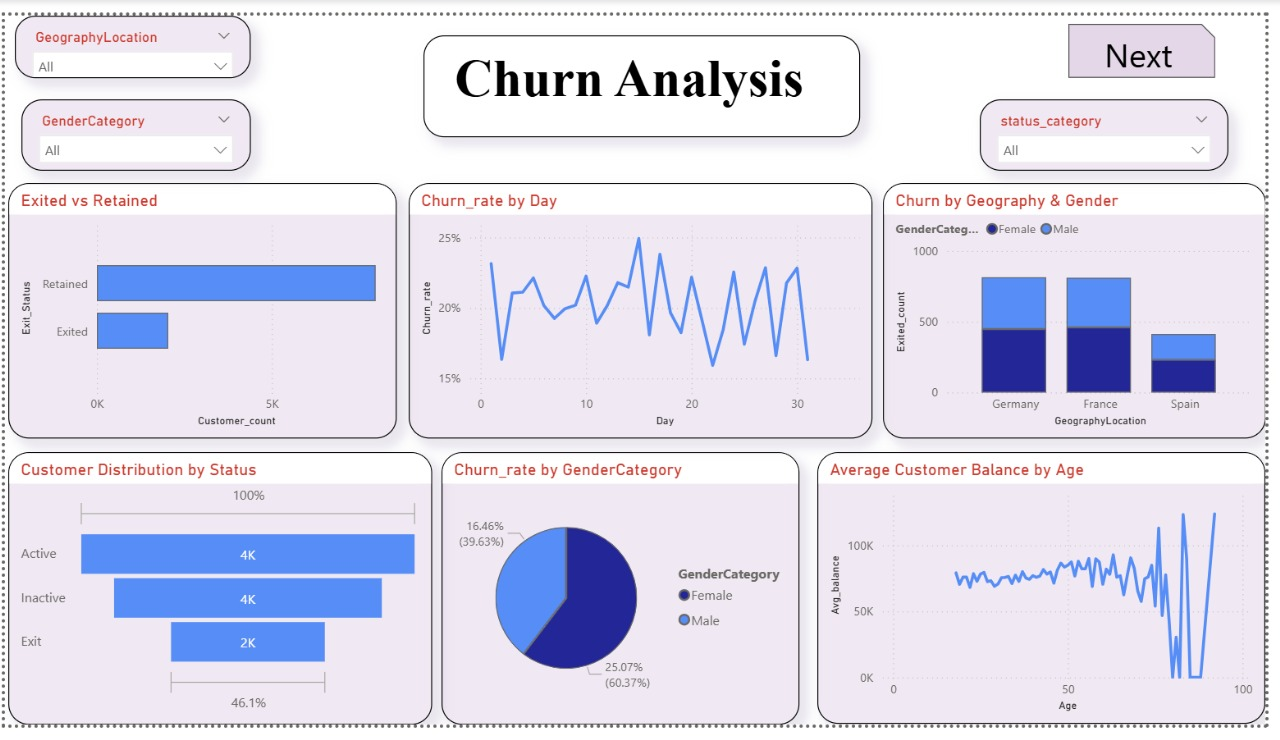

Layout of this report page (visuals, bound fields, positions):
{"tool":"powerbi","page":{"name":"Page 2","canvas":[1280,720],"ordinal":1},"visuals":[{"type":"clusteredBarChart","title":"Exited vs Retained","fields":{"Category":["Bank_Churn.Exit_Status"],"Y":["ActiveCustomer.Customer_count"]},"box":[4,169.6,394.3,259.7],"z":0},{"type":"columnChart","title":" Churn by Geography & Gender","fields":{"Category":["Geography.GeographyLocation"],"Y":["ActiveCustomer.Exited_count"],"Series":["Gender.GenderCategory"]},"box":[890.9,169.6,388.9,259.7],"z":1000},{"type":"funnel","title":"Customer Distribution by Status","fields":{"Category":["Bank_Churn.status_category"],"Y":["ActiveCustomer.Customer_count"]},"box":[4,444.1,430.6,277.2],"z":2000},{"type":"lineChart","title":"Average Customer Balance by Age","fields":{"Category":["Bank_Churn.Age"],"Y":["Bank_Churn.Avg_balance"]},"box":[825,444.1,454.9,275.9],"z":3000},{"type":"textbox","box":[425.8,20.4,443.7,103.3],"z":4000},{"type":"shape","box":[1079.8,8.9,149.2,54.8],"z":5000},{"type":"slicer","fields":{"Values":["Geography.GeographyLocation"]},"box":[10.8,0,239.6,63.2],"z":6000},{"type":"slicer","fields":{"Values":["Gender.GenderCategory"]},"box":[17.5,84.8,232.8,72.7],"z":7000},{"type":"slicer","fields":{"Values":["Bank_Churn.status_category"]},"box":[990.6,85.4,252.4,72.7],"z":8000},{"type":"pieChart","fields":{"Category":["Gender.GenderCategory"],"Y":["Bank_Churn.Churn_rate"]},"box":[444.1,444.1,363.4,277.2],"z":9000},{"type":"lineChart","fields":{"Category":["daxtable.Date.Variation.Date Hierarchy.Year","daxtable.Date.Variation.Date Hierarchy.Quarter","daxtable.Date.Variation.Date Hierarchy.Month","daxtable.Date.Variation.Date Hierarchy.Day"],"Y":["Bank_Churn.Churn_rate"]},"box":[410.5,169.6,471,259.7],"z":10000}]}

Visuals, with their boxes in screenshot pixels (x1, y1, x2, y2), scaled from the page's 1280x720 canvas onto the 1280x740 screenshot:
"Exited vs Retained" clusteredBarChart: detection(4, 174, 398, 441)
" Churn by Geography & Gender" columnChart: detection(891, 174, 1279, 441)
"Customer Distribution by Status" funnel: detection(4, 456, 435, 739)
"Average Customer Balance by Age" lineChart: detection(825, 456, 1279, 739)
textbox: detection(426, 21, 870, 127)
shape: detection(1080, 9, 1229, 65)
slicer - Geography.GeographyLocation: detection(11, 0, 250, 65)
slicer - Gender.GenderCategory: detection(18, 87, 250, 162)
slicer - Bank_Churn.status_category: detection(991, 88, 1243, 162)
pieChart - Gender.GenderCategory x Bank_Churn.Churn_rate: detection(444, 456, 808, 739)
lineChart - daxtable.Date.Variation.Date Hierarchy.Year x daxtable.Date.Variation.Date Hierarchy.Quarter: detection(410, 174, 882, 441)
